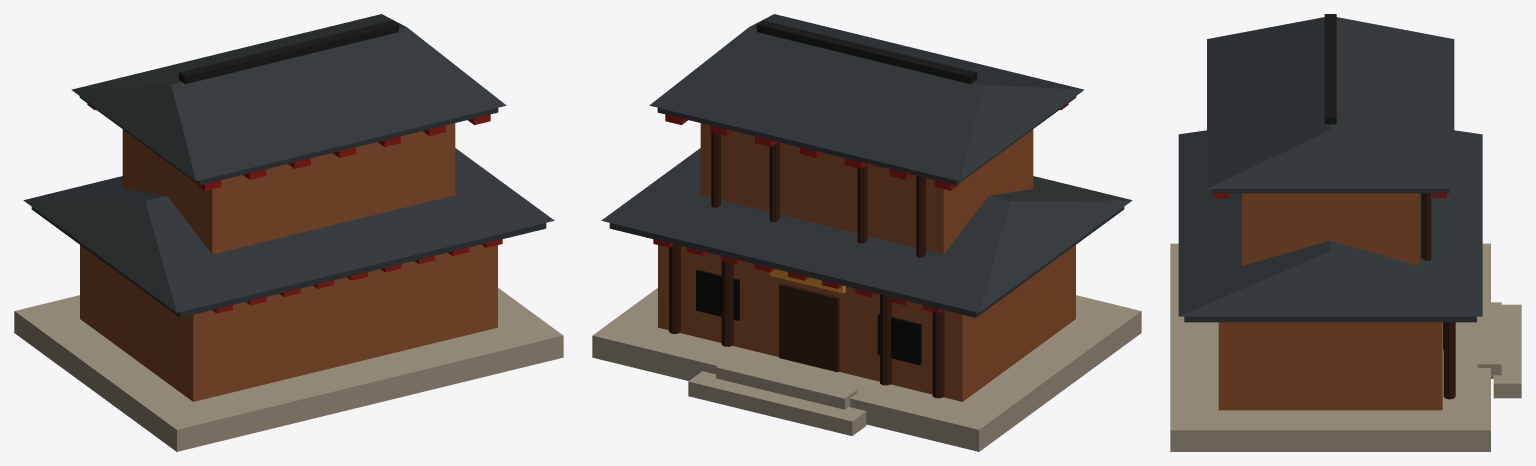
File: shaolin-cangjingge.obj
The picture shows the model from 3 angles, left to right: view 1: azimuth 30°, elevation 25°; view 2: azimuth 150°, elevation 25°; view 3: azimuth 270°, elevation 25°; orthographic projection.
Parts seen in each view (by area): view 1: upper_roof_back_slope, lower_hall_back, lower_roof_back_slope, upper_hall_back, stone_platform_top, stone_platform_back, lower_hall_left, lower_roof_left_cap, upper_roof_left_cap, upper_hall_left, stone_platform_left, upper_roof_front_slope (+5 smaller); view 2: upper_roof_front_slope, lower_roof_front_slope, stone_platform_top, lower_hall_front, upper_hall_front, lower_hall_left, lower_roof_left_cap, stone_platform_front, upper_roof_left_cap, main_door_front, upper_hall_left, stone_platform_left (+12 smaller); view 3: lower_hall_right, upper_roof_front_slope, upper_roof_back_slope, stone_platform_top, upper_hall_right, lower_roof_back_slope, lower_roof_right_cap, lower_roof_front_slope, upper_roof_right_cap, stone_platform_right, lower_eave_slab_right, front_step_1_top (+6 smaller).
Boxes of the visible parts, x1,y1,x2,y2 form: upper_roof_back_slope: (171, 27, 506, 181); lower_hall_back: (193, 244, 497, 401); lower_roof_back_slope: (145, 148, 554, 312); upper_hall_back: (212, 123, 455, 254); stone_platform_top: (15, 288, 562, 429); stone_platform_back: (177, 335, 563, 451); lower_hall_left: (80, 245, 193, 401); lower_roof_left_cap: (23, 200, 176, 312); upper_roof_left_cap: (71, 84, 195, 180); upper_hall_left: (122, 129, 212, 253); stone_platform_left: (14, 311, 176, 451); upper_roof_front_slope: (72, 14, 406, 89); upper_roof_front_slope: (649, 27, 984, 181); lower_roof_front_slope: (601, 148, 1010, 312); stone_platform_top: (593, 288, 1140, 429); lower_hall_front: (658, 245, 962, 401); upper_hall_front: (700, 123, 943, 254); lower_hall_left: (962, 245, 1075, 401); lower_roof_left_cap: (979, 200, 1132, 312); stone_platform_front: (592, 335, 978, 451); upper_roof_left_cap: (960, 84, 1084, 180); main_door_front: (779, 284, 837, 371); upper_hall_left: (943, 129, 1033, 253); stone_platform_left: (979, 311, 1141, 451); lower_hall_right: (1218, 322, 1442, 410); upper_roof_front_slope: (1330, 17, 1454, 188); upper_roof_back_slope: (1207, 17, 1330, 188); stone_platform_top: (1170, 243, 1490, 430); upper_hall_right: (1242, 193, 1419, 265); lower_roof_back_slope: (1178, 130, 1330, 316); lower_roof_right_cap: (1179, 251, 1481, 316); lower_roof_front_slope: (1330, 130, 1482, 316); upper_roof_right_cap: (1207, 129, 1453, 188); stone_platform_right: (1170, 430, 1490, 451); lower_eave_slab_right: (1184, 316, 1476, 322); front_step_1_top: (1493, 304, 1521, 383).
Bounding box in the file's own units: 6.6 × 4.84 × 5.26.
